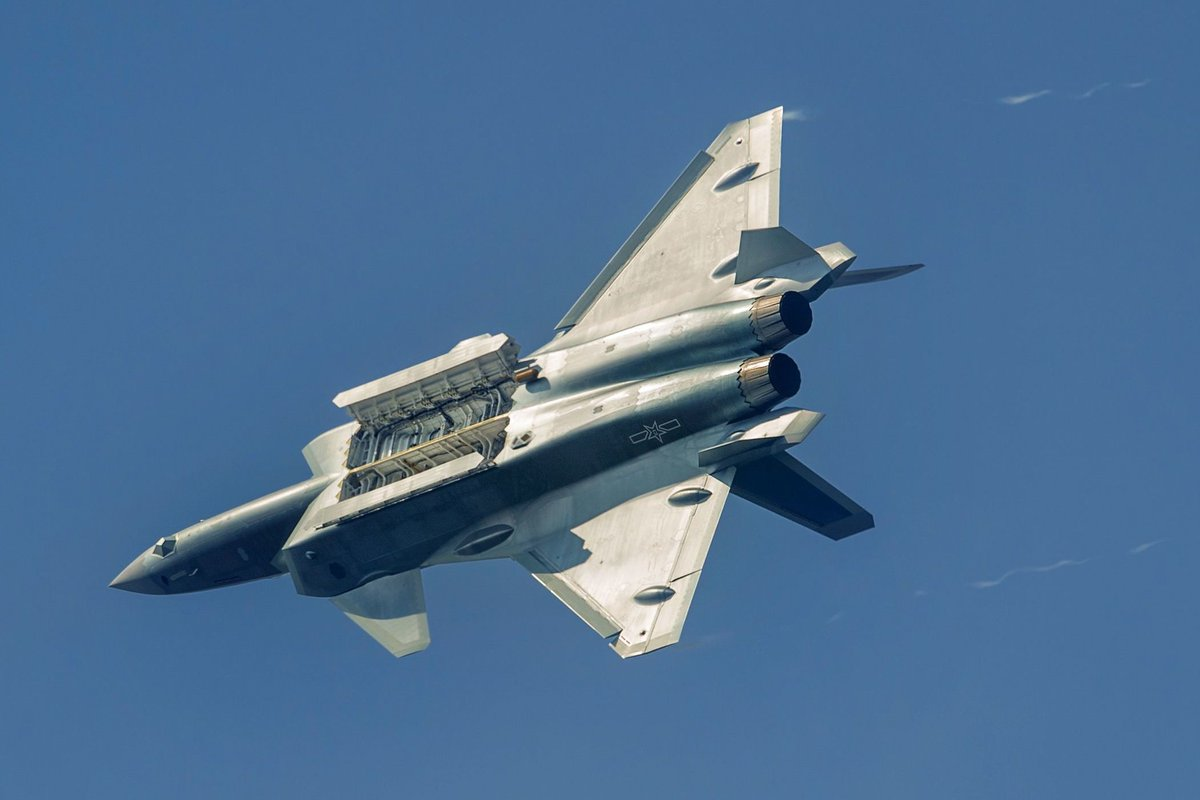J20: (107, 105, 926, 660)
